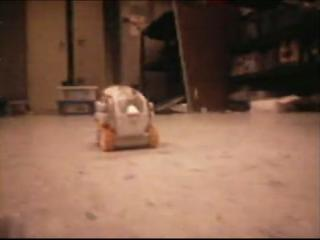cozmo: (92, 84, 160, 151)
